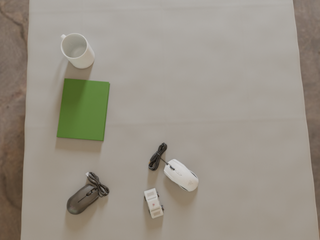book: (57, 79, 110, 141)
cup: (61, 33, 95, 69)
mouse: (67, 172, 109, 214), (164, 159, 198, 191)
toy_car: (144, 188, 164, 218)
